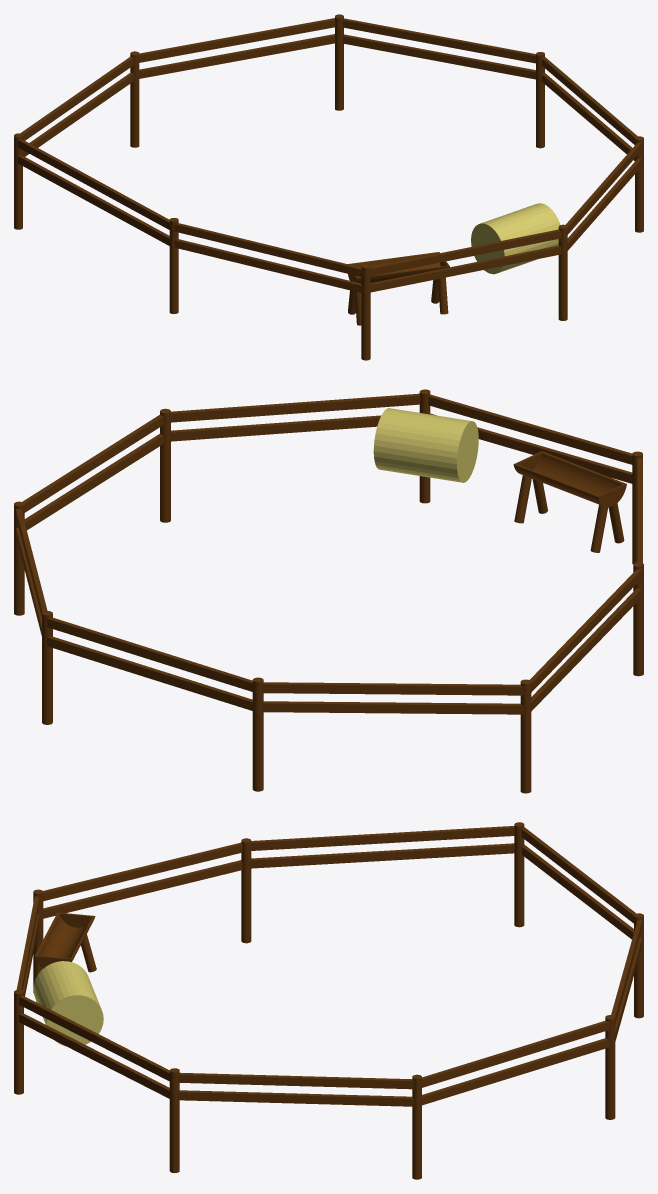
Rendered from Pasture.fbx.
3 renders of one model, top to bottom at view 1: azimuth 30°, elevation 25°; view 2: azimuth 150°, elevation 25°; view 3: azimuth 270°, elevation 25°, orthographic. The views are drawn at different scales.
Parts seen in each view (by area): view 1: Fence, Hay, Manger; view 2: Fence, Hay, Manger; view 3: Fence, Hay, Manger.
Part boxes in pixels (left/top/right/bottom): Fence: left=14, top=14, right=643, bottom=360; Hay: left=471, top=203, right=560, bottom=274; Manger: left=347, top=252, right=449, bottom=325; Fence: left=14, top=389, right=643, bottom=793; Hay: left=373, top=408, right=478, bottom=482; Manger: left=513, top=451, right=626, bottom=552; Fence: left=14, top=822, right=643, bottom=1179; Hay: left=33, top=961, right=103, bottom=1046; Manger: left=34, top=912, right=96, bottom=1002.
Bounding box in the file's own units: 368 × 67.99 × 381.
